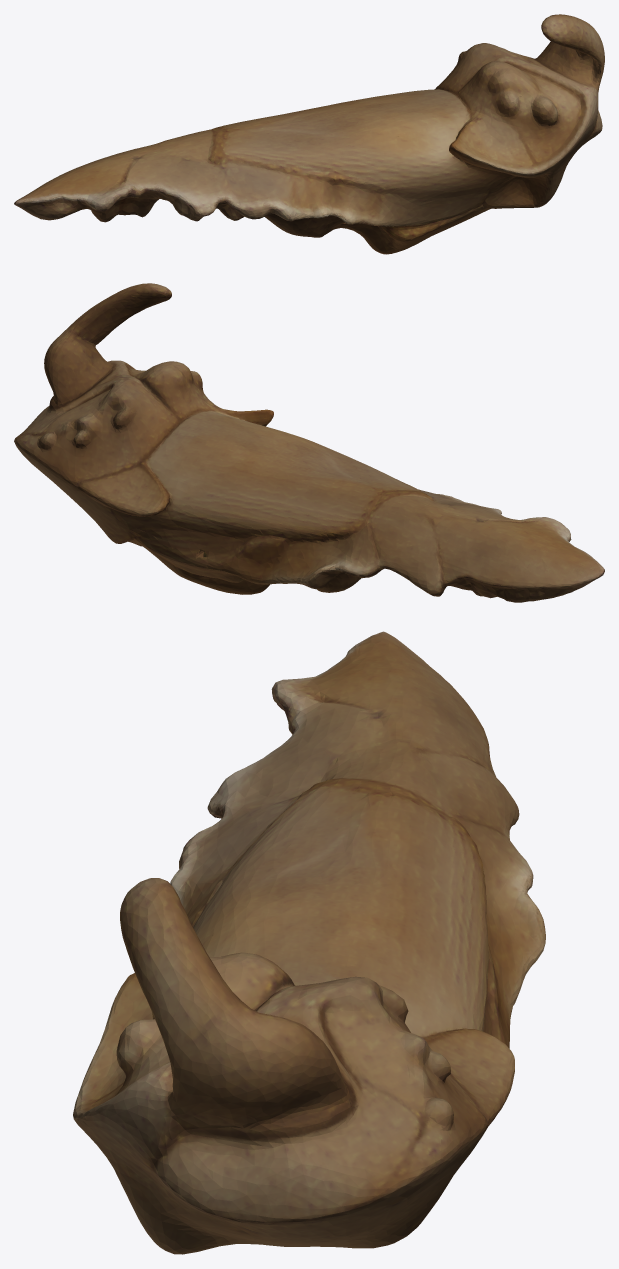
The picture shows the model from 3 angles, top to bottom: view 1: azimuth 30°, elevation 25°; view 2: azimuth 150°, elevation 25°; view 3: azimuth 270°, elevation 25°; orthographic projection. The views are drawn at different scales.
Parts seen in each view (by area): view 1: world; view 2: world; view 3: world.
Part boxes in pixels (x1=…): world: x1=14, y1=14, x2=604, y2=254; world: x1=14, y1=283, x2=604, y2=602; world: x1=73, y1=631, x2=545, y2=1254.
Bounding box in the file's own units: 0.9463 × 0.3779 × 0.3502.
Materials: 1 (1 with a texture image).
